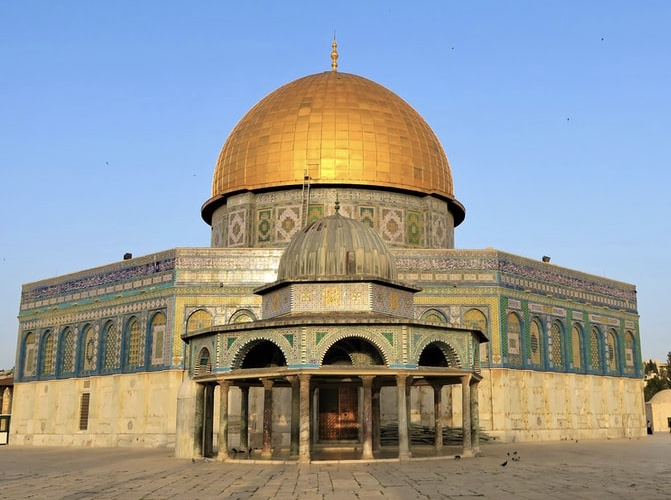Mosque: (2, 41, 661, 472)
